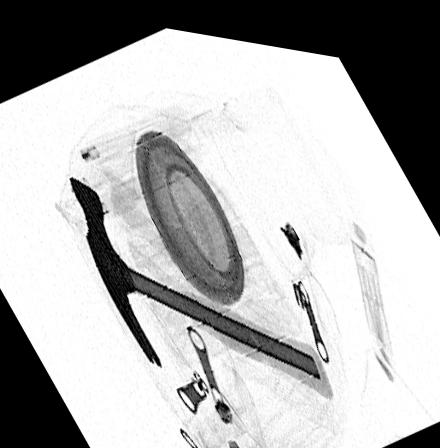Hammer: (68, 171, 335, 389)
